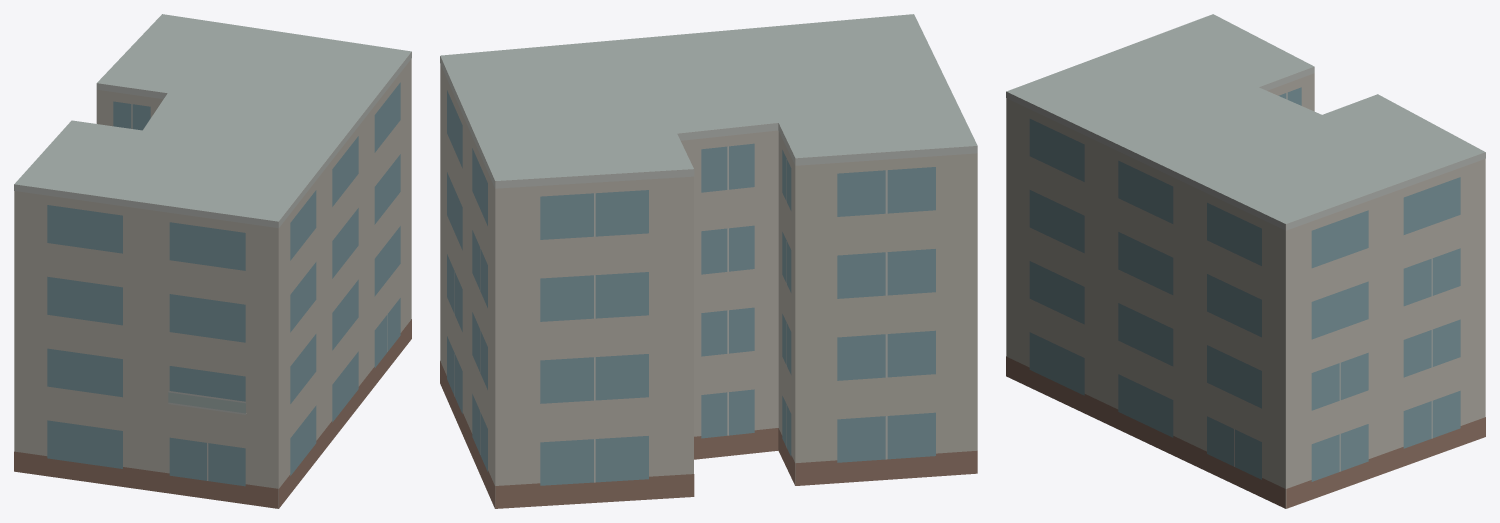
Rendered from survey-upis-32666977.glb.
The picture shows the model from 3 angles, left to right: view 1: azimuth 30°, elevation 25°; view 2: azimuth 150°, elevation 25°; view 3: azimuth 270°, elevation 25°; orthographic projection. The views are drawn at different scales.
Parts seen in each view (by area): view 1: survey-upis-32666977.tmp; view 2: survey-upis-32666977.tmp; view 3: survey-upis-32666977.tmp.
Boxes of the visible parts, x1,y1,x2,y2 form: survey-upis-32666977.tmp: [14, 14, 411, 508]; survey-upis-32666977.tmp: [440, 14, 977, 508]; survey-upis-32666977.tmp: [1006, 14, 1485, 508].
Size of the model in its own units: 16.78 by 10.6 by 16.19.
